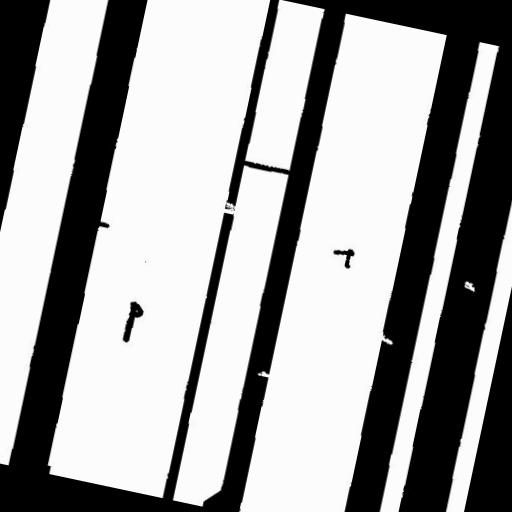copper: (112, 291, 153, 353), (321, 236, 363, 278)
mousebite: (367, 324, 402, 353), (248, 360, 280, 386)
open: (205, 190, 246, 224)
pin-hole: (454, 272, 485, 300)
short: (230, 150, 298, 184)
spur: (84, 210, 118, 236)
